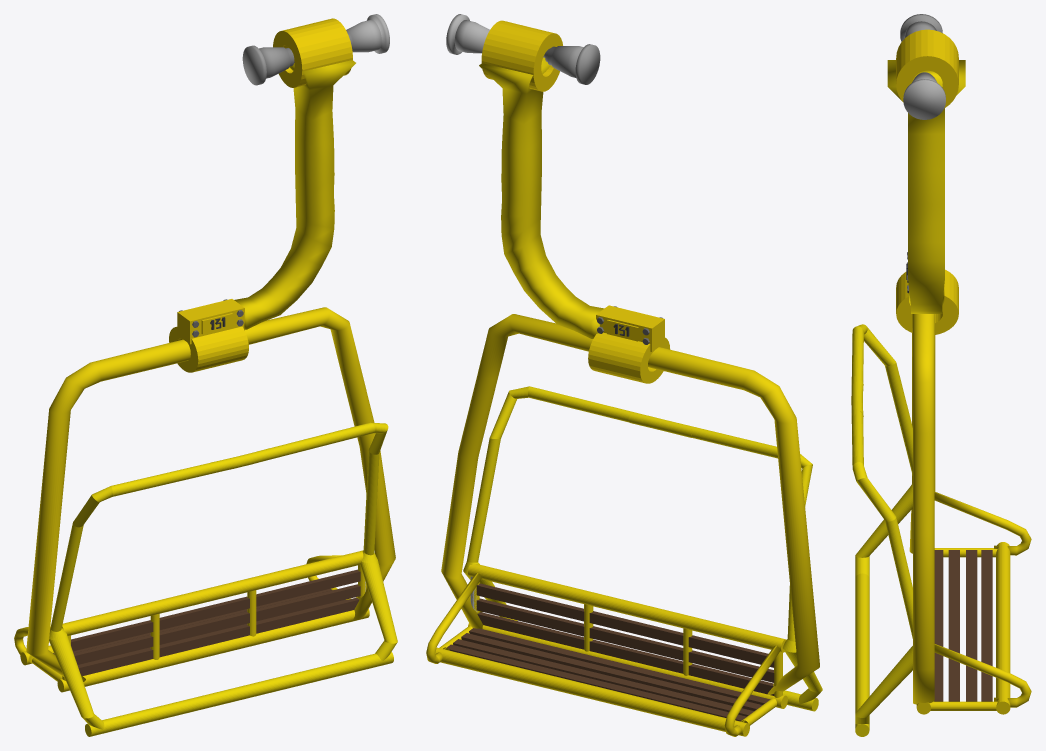
Rendered from sky+lift.fbx.
3 renders of one model, left to right at view 1: azimuth 30°, elevation 25°; view 2: azimuth 150°, elevation 25°; view 3: azimuth 270°, elevation 25°, orthographic. The views are drawn at different scales.
Parts seen in each view (by area): view 1: Cylinder.004, Cylinder.018, Cube.006, Cube, Cylinder.007, Cylinder.003, Cylinder.005, Cylinder, Cube.001, Cylinder.001; view 2: Cube.006, Cylinder.004, Cylinder.007, Cube, Cylinder.018, Cylinder.003, Cylinder.005, Cylinder, Cube.001, Cylinder.001; view 3: Cylinder.018, Cylinder.004, Cube, Cube.006, Cylinder.007, Cylinder.003, Cylinder.005, Cylinder.001, Cylinder.
Boxes of the visible parts, x1,y1,x2,y2 form: Cylinder.004: (26,307,395,681); Cylinder.018: (49,422,397,736); Cube.006: (53,569,360,675); Cube: (234,60,355,329); Cylinder.007: (14,550,369,692); Cylinder.003: (273,18,352,87); Cylinder.005: (169,326,248,372); Cylinder: (242,45,294,85); Cube.001: (177,299,244,344); Cylinder.001: (346,14,389,53); Cube.006: (447,583,774,721); Cylinder.004: (441,314,819,694); Cylinder.007: (426,564,787,736); Cube: (479,57,604,338); Cylinder.018: (463,386,822,711); Cylinder.003: (481,20,562,91); Cylinder.005: (588,332,670,383); Cylinder: (543,44,600,84); Cube.001: (596,305,664,351); Cylinder.001: (446,14,489,54); Cylinder.018: (851,324,912,736); Cylinder.004: (909,314,935,704); Cube: (887,60,965,313); Cube.006: (934,550,992,701); Cylinder.007: (916,492,1031,714); Cylinder.003: (896,29,958,108); Cylinder.005: (896,269,958,334); Cylinder.001: (903,72,945,119); Cylinder: (900,14,942,41).
Size of the model in its own units: 127 by 207 by 50.44.
